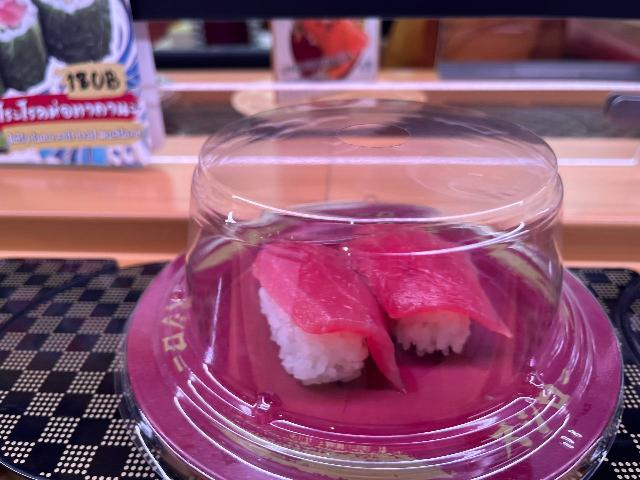janred: (117, 238, 627, 463)
